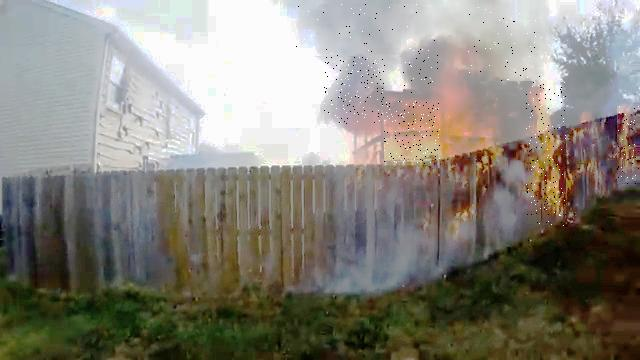fire: (526, 82, 566, 226), (384, 102, 440, 165), (618, 106, 640, 184)
smoke: (288, 4, 418, 57), (468, 7, 546, 81), (324, 55, 385, 124), (403, 40, 438, 94)
